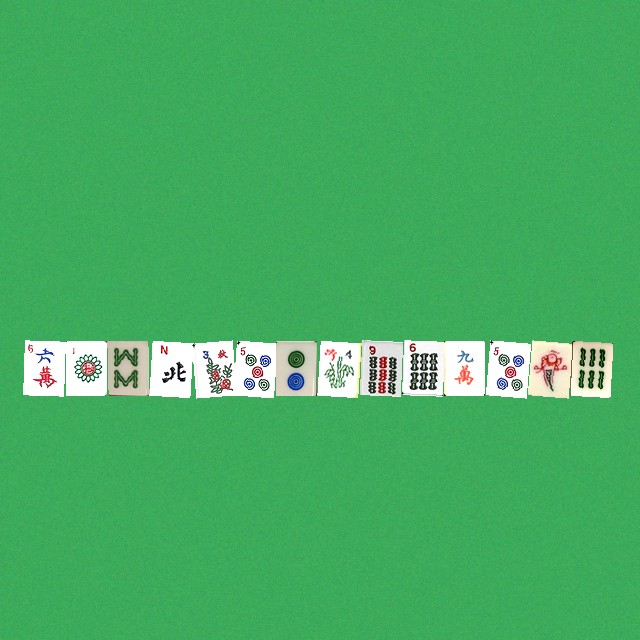tile: (23, 340, 64, 395), (65, 340, 106, 395), (107, 340, 148, 395), (149, 340, 190, 395), (191, 340, 232, 395), (233, 340, 274, 395), (275, 340, 316, 395), (317, 340, 358, 395), (359, 340, 400, 395), (401, 340, 442, 395), (443, 340, 484, 395), (485, 340, 526, 395), (527, 340, 568, 395), (569, 340, 610, 395)
